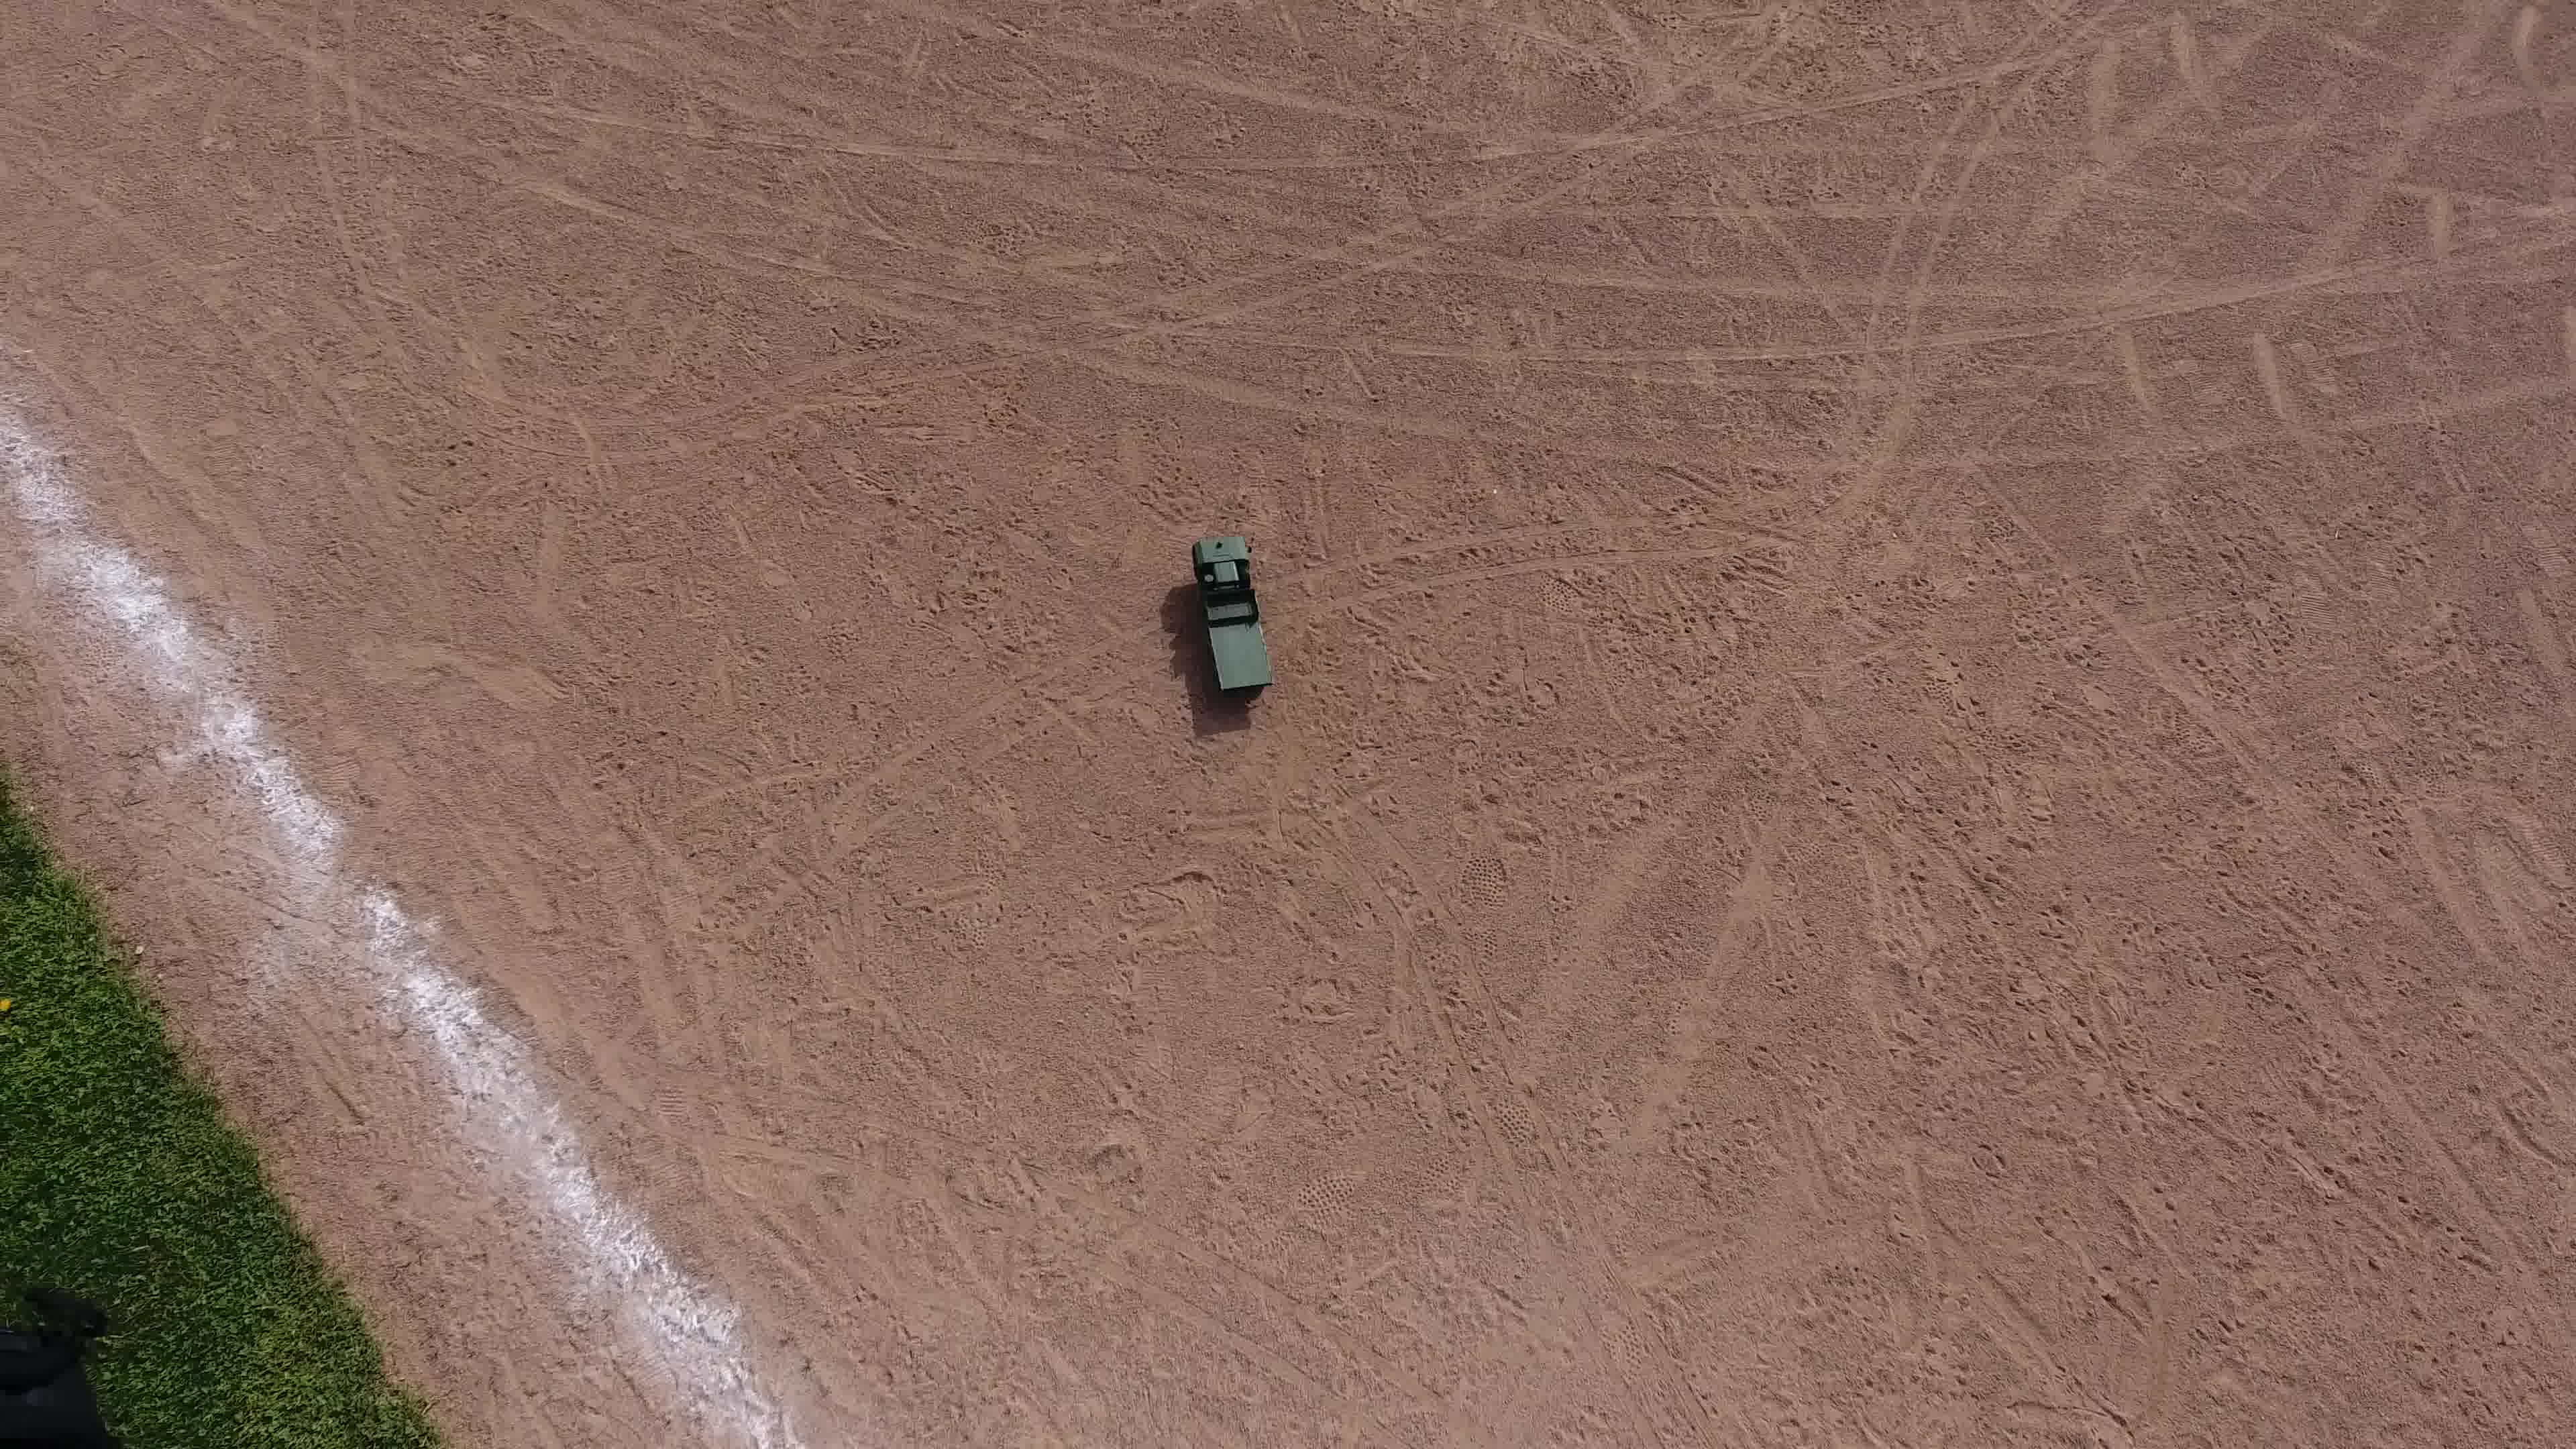transporter9: (1180, 527, 1292, 713)
